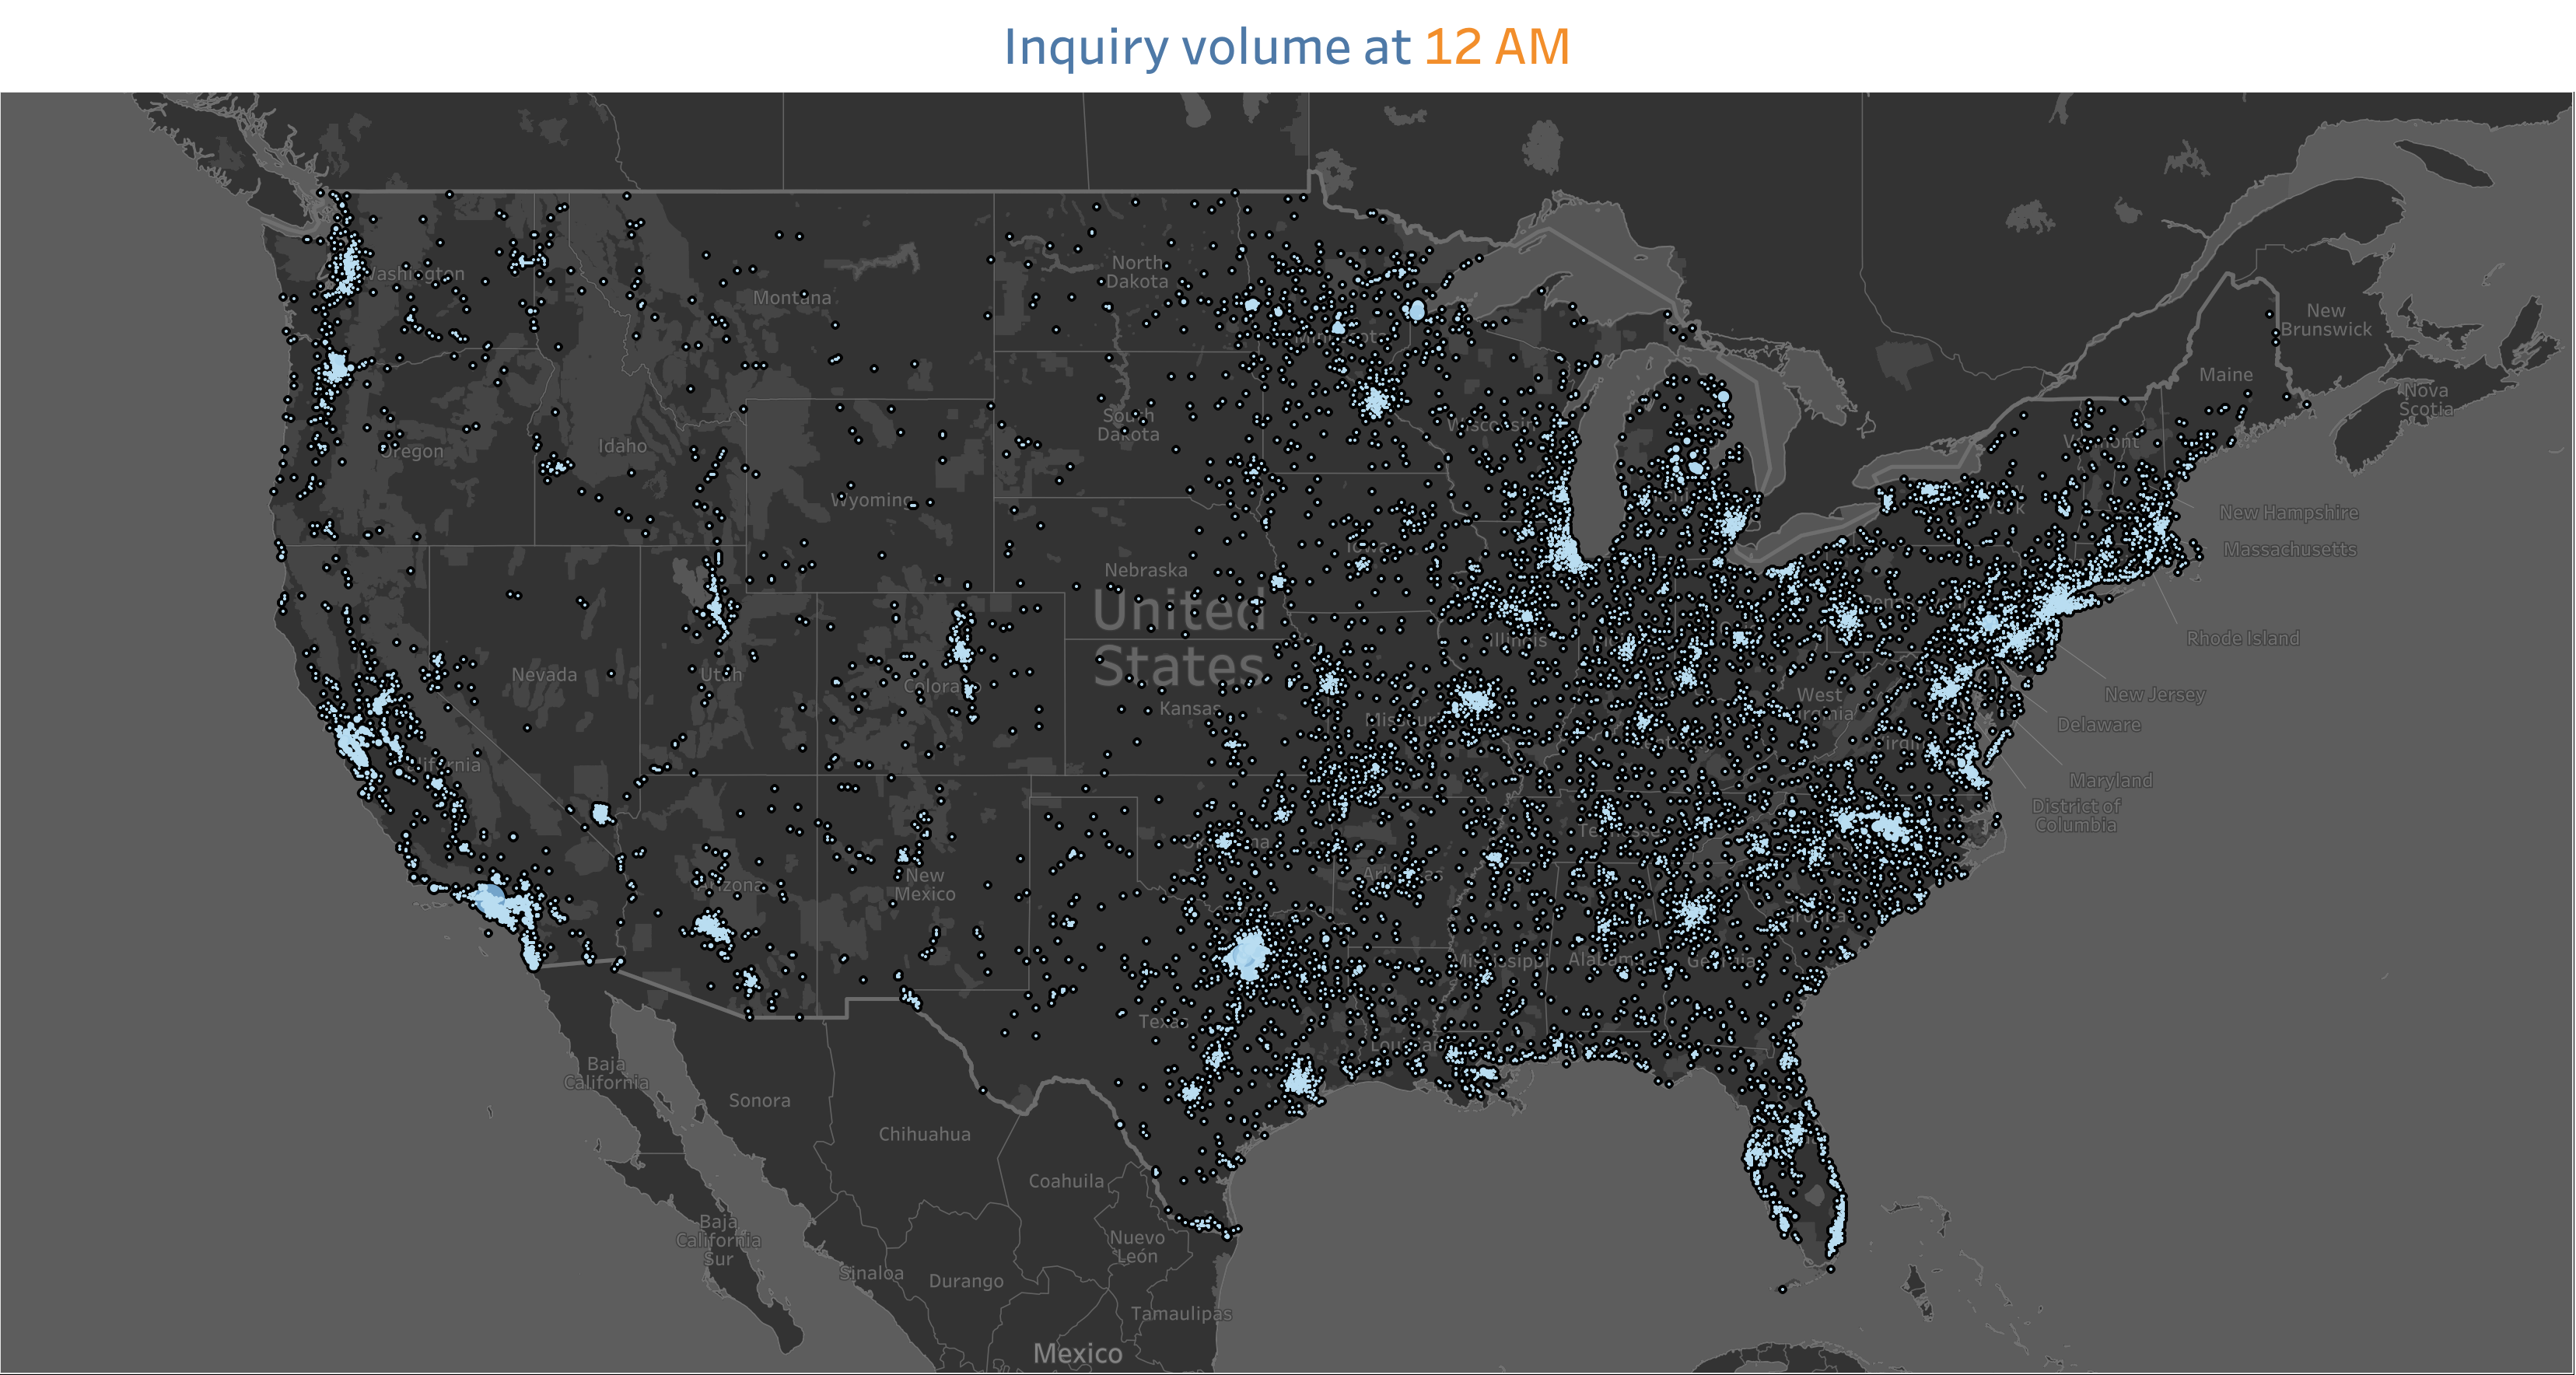

The page's visual inventory and layout, read from the dashboard file:
{"tool":"tableau","page":{"name":"Dashboard 1","canvas":[1000,1000],"units":"permille","ordinal":0},"visuals":[{"type":"worksheet","title":"Sheet 1","mark":"Automatic","box":[4.7,8.8,990.6,982.3]},{"type":"currpage","title":"Sheet 1","box":[883,30.9,87.8,105]}]}

Visuals, with their boxes on the dashboard's canvas, which has no fixed pixel size, in thousandths of its width and height (x1, y1, x2, y2). These are canvas units, not pixel positions in the 2576x1375 screenshot, which may show the page scaled, cropped or inside an application window:
"Sheet 1" worksheet: box=[5, 9, 995, 991]
"Sheet 1" currpage: box=[883, 31, 971, 136]
